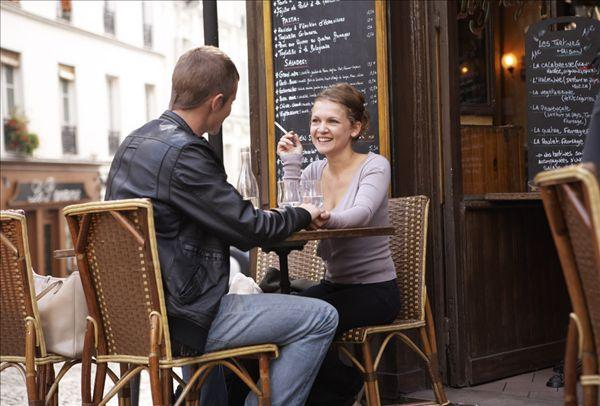smoke: (273, 120, 289, 136)
